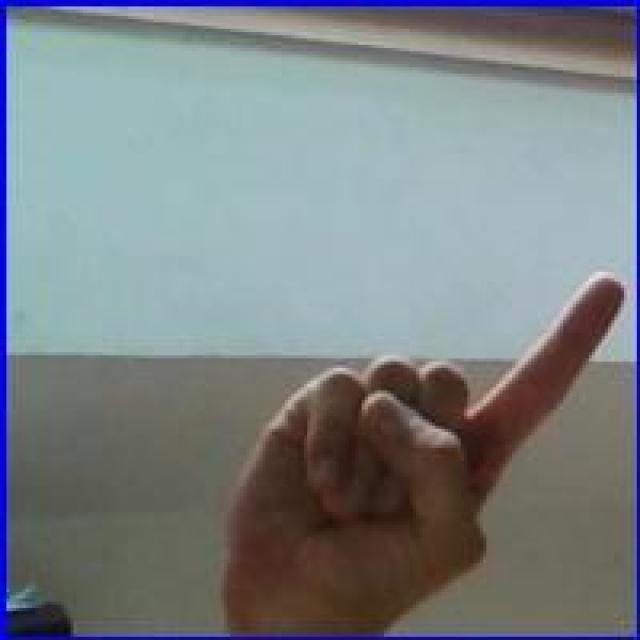Z: (215, 267, 628, 600)
